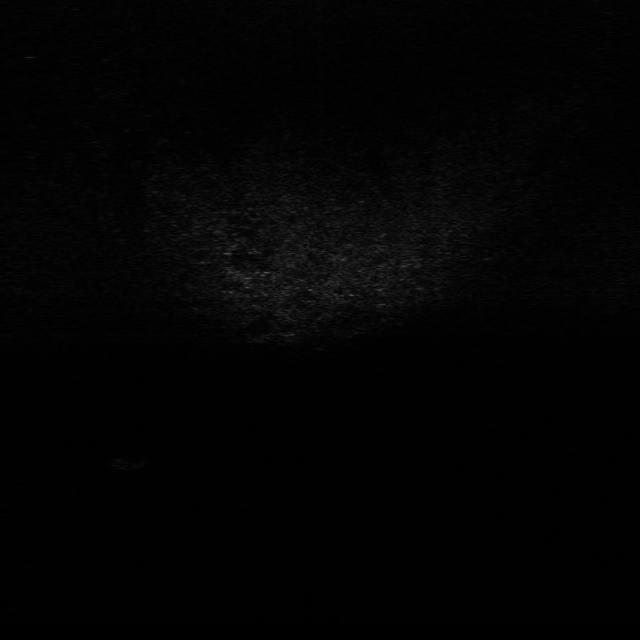cube: (101, 448, 157, 476)
